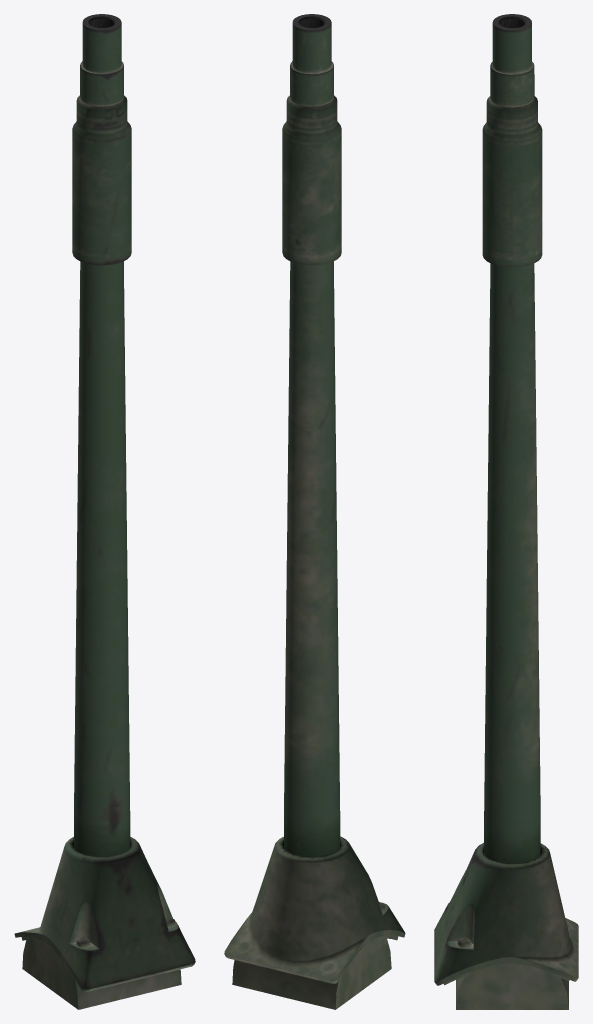
The model's file is Gun_04.glb.
3 renders of one model, left to right at view 1: azimuth 30°, elevation 25°; view 2: azimuth 150°, elevation 25°; view 3: azimuth 270°, elevation 25°, orthographic.
Visible parts, largest first — view 1: set_0_group_0; view 2: set_0_group_0; view 3: set_0_group_0.
Part boxes in pixels (<box>): set_0_group_0: <box>14,14,195,1009</box>; set_0_group_0: <box>224,14,405,1009</box>; set_0_group_0: <box>434,14,578,1009</box>.
Size of the model in its own units: 0.44 by 3.56 by 0.4846.
Materials: 1 (1 with a texture image).
